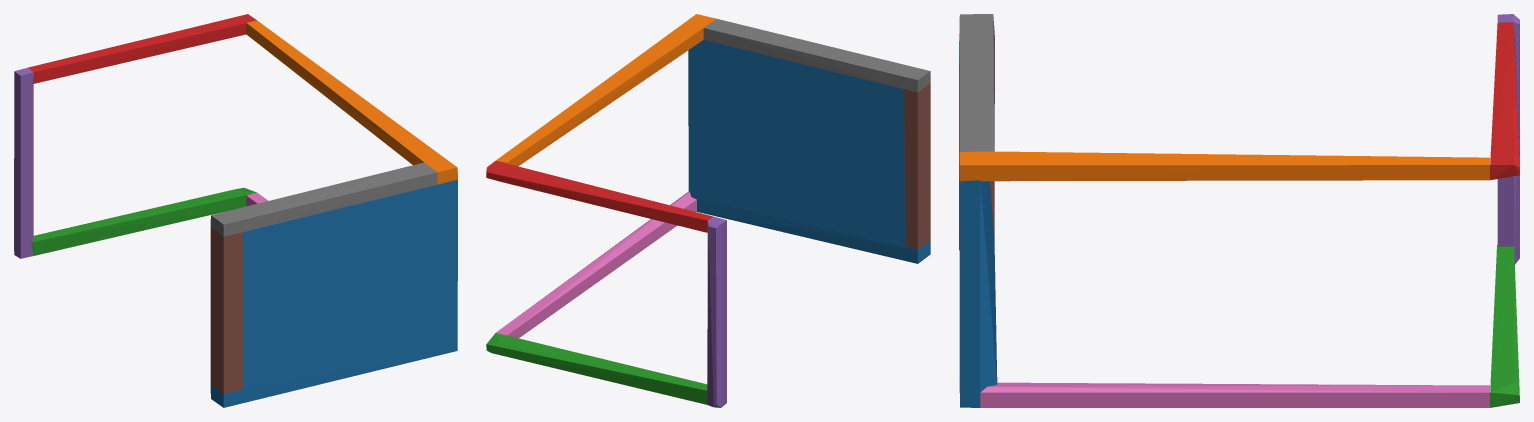
Rendered from Side_Table_01_cvx.obj.
The picture shows the model from 3 angles, left to right: view 1: azimuth 30°, elevation 25°; view 2: azimuth 150°, elevation 25°; view 3: azimuth 270°, elevation 25°; orthographic projection. The views are drawn at different scales.
Visible parts, largest first — view 1: scenes/apartment_0000_coacd/output/Unknown/Side_Table_01/cvx/Sid; view 2: scenes/apartment_0000_coacd/output/Unknown/Side_Table_01/cvx/Sid; view 3: scenes/apartment_0000_coacd/output/Unknown/Side_Table_01/cvx/Sid.
Boxes of the visible parts, x1=… form: scenes/apartment_0000_coacd/output/Unknown/Side_Table_01/cvx/Sid: x1=14, y1=14, x2=457, y2=407; scenes/apartment_0000_coacd/output/Unknown/Side_Table_01/cvx/Sid: x1=486, y1=14, x2=930, y2=407; scenes/apartment_0000_coacd/output/Unknown/Side_Table_01/cvx/Sid: x1=959, y1=14, x2=1519, y2=407.
Size of the model in its own units: 0.479 by 0.36 by 0.7506.
